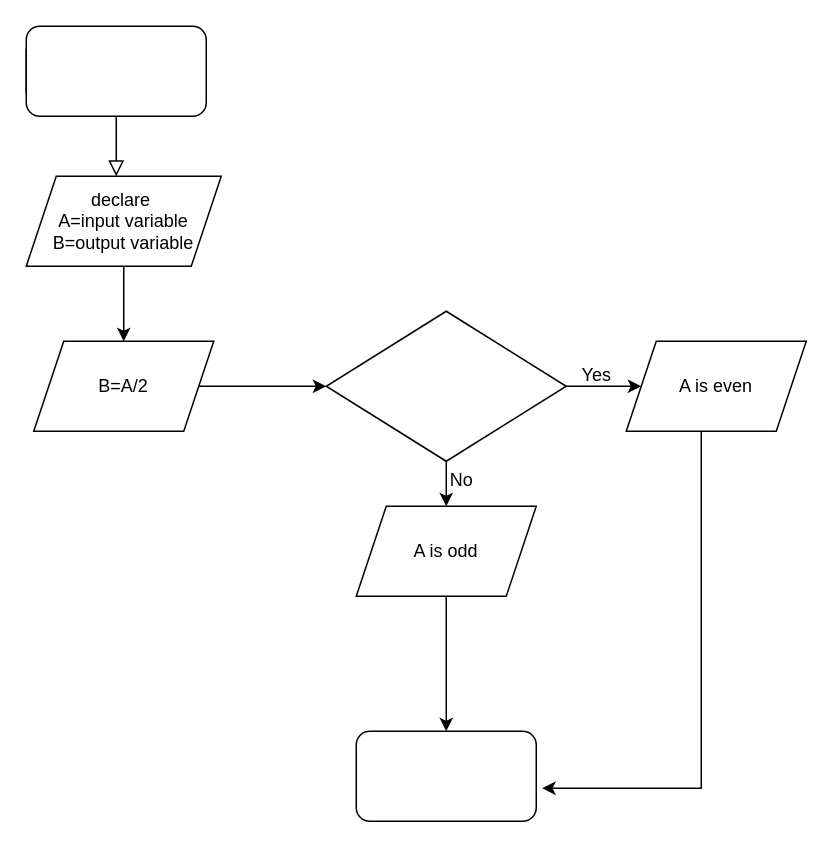
The diagram is 833 pixels wide and 848 high, and some of its shapes have lost their labels. Each missing label, with the box of its shape:
If B is absolute: (325, 310, 566, 461)
start: (25, 25, 206, 116)
Stop: (355, 730, 536, 821)
